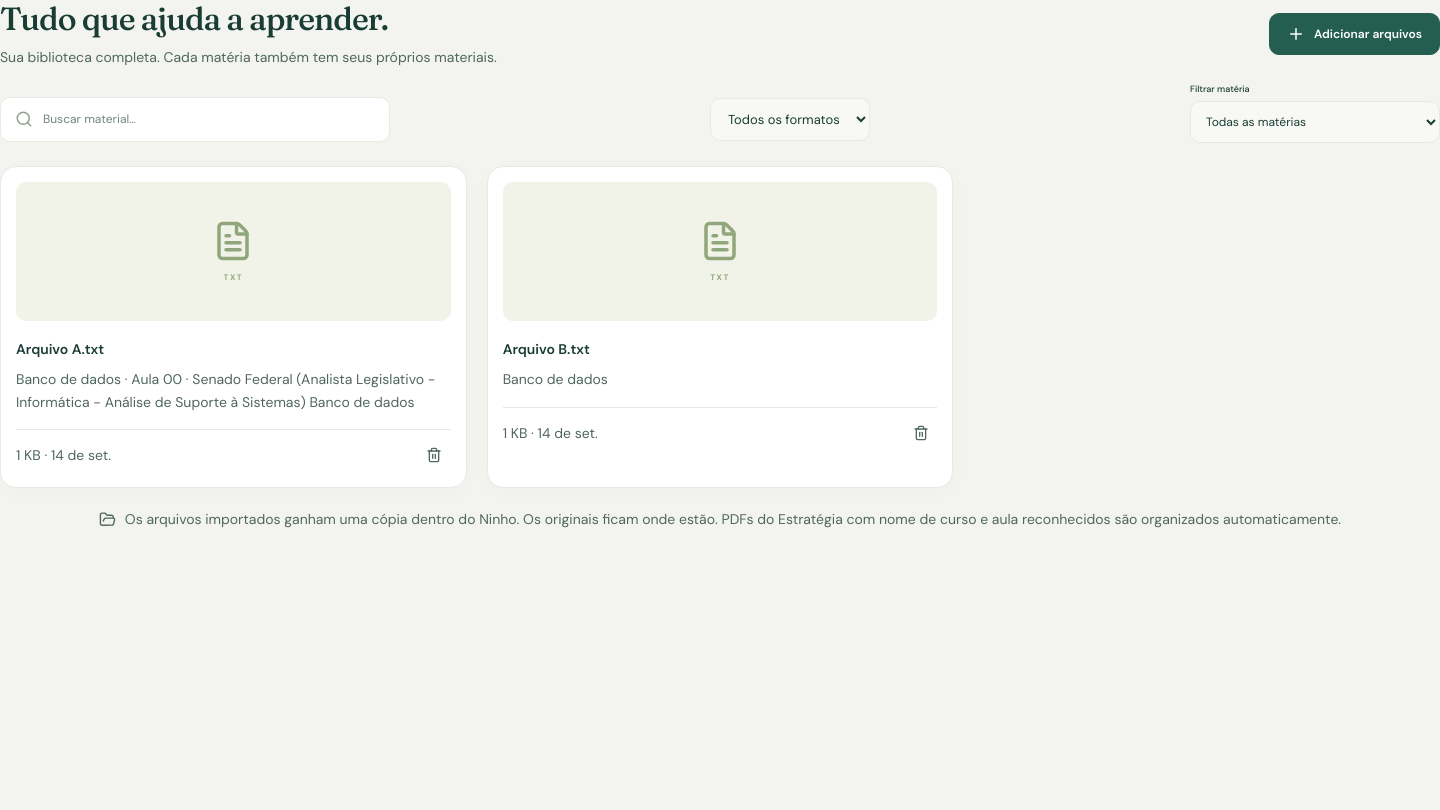
Test: biblioteca com operações assíncronas › ignora falhas de uma prévia já fechada e não reabre o modal
Click the button with aria-label "Abrir Arquivo A.txt" at (233, 251), box [16,182,451,321]
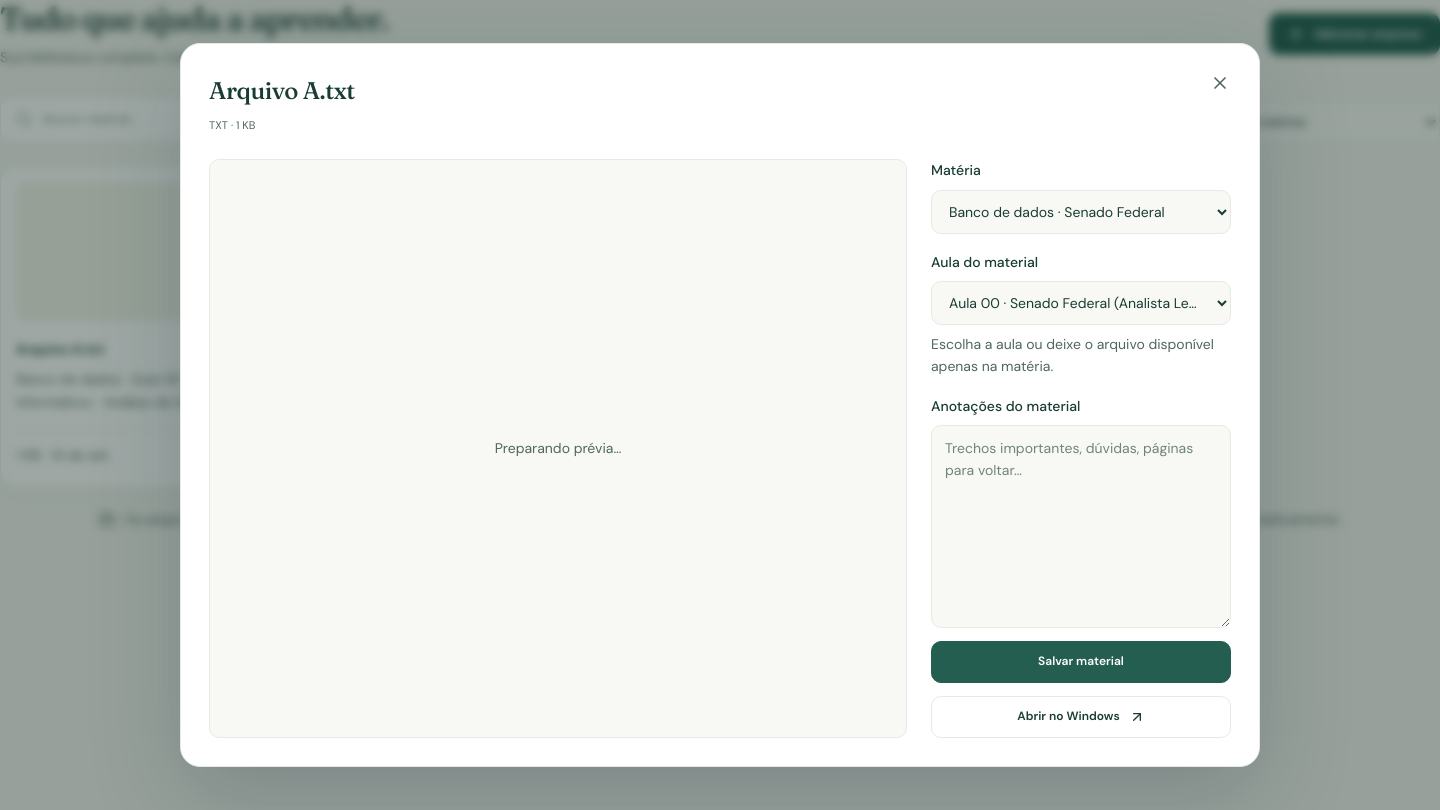
Click the button named "Fechar janela" at (1220, 83), box [1203,67,1236,100]
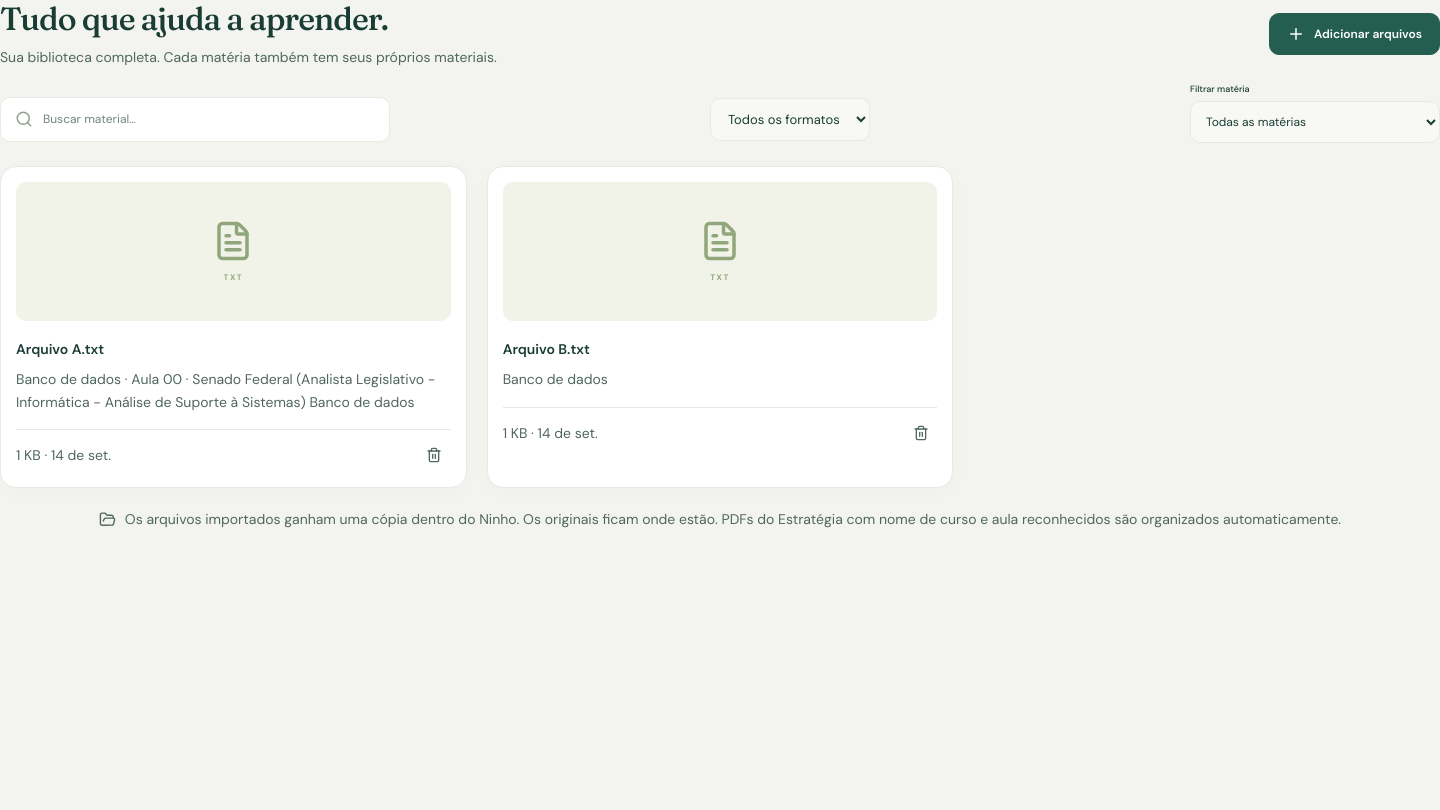
Expected: the dialog is gone
